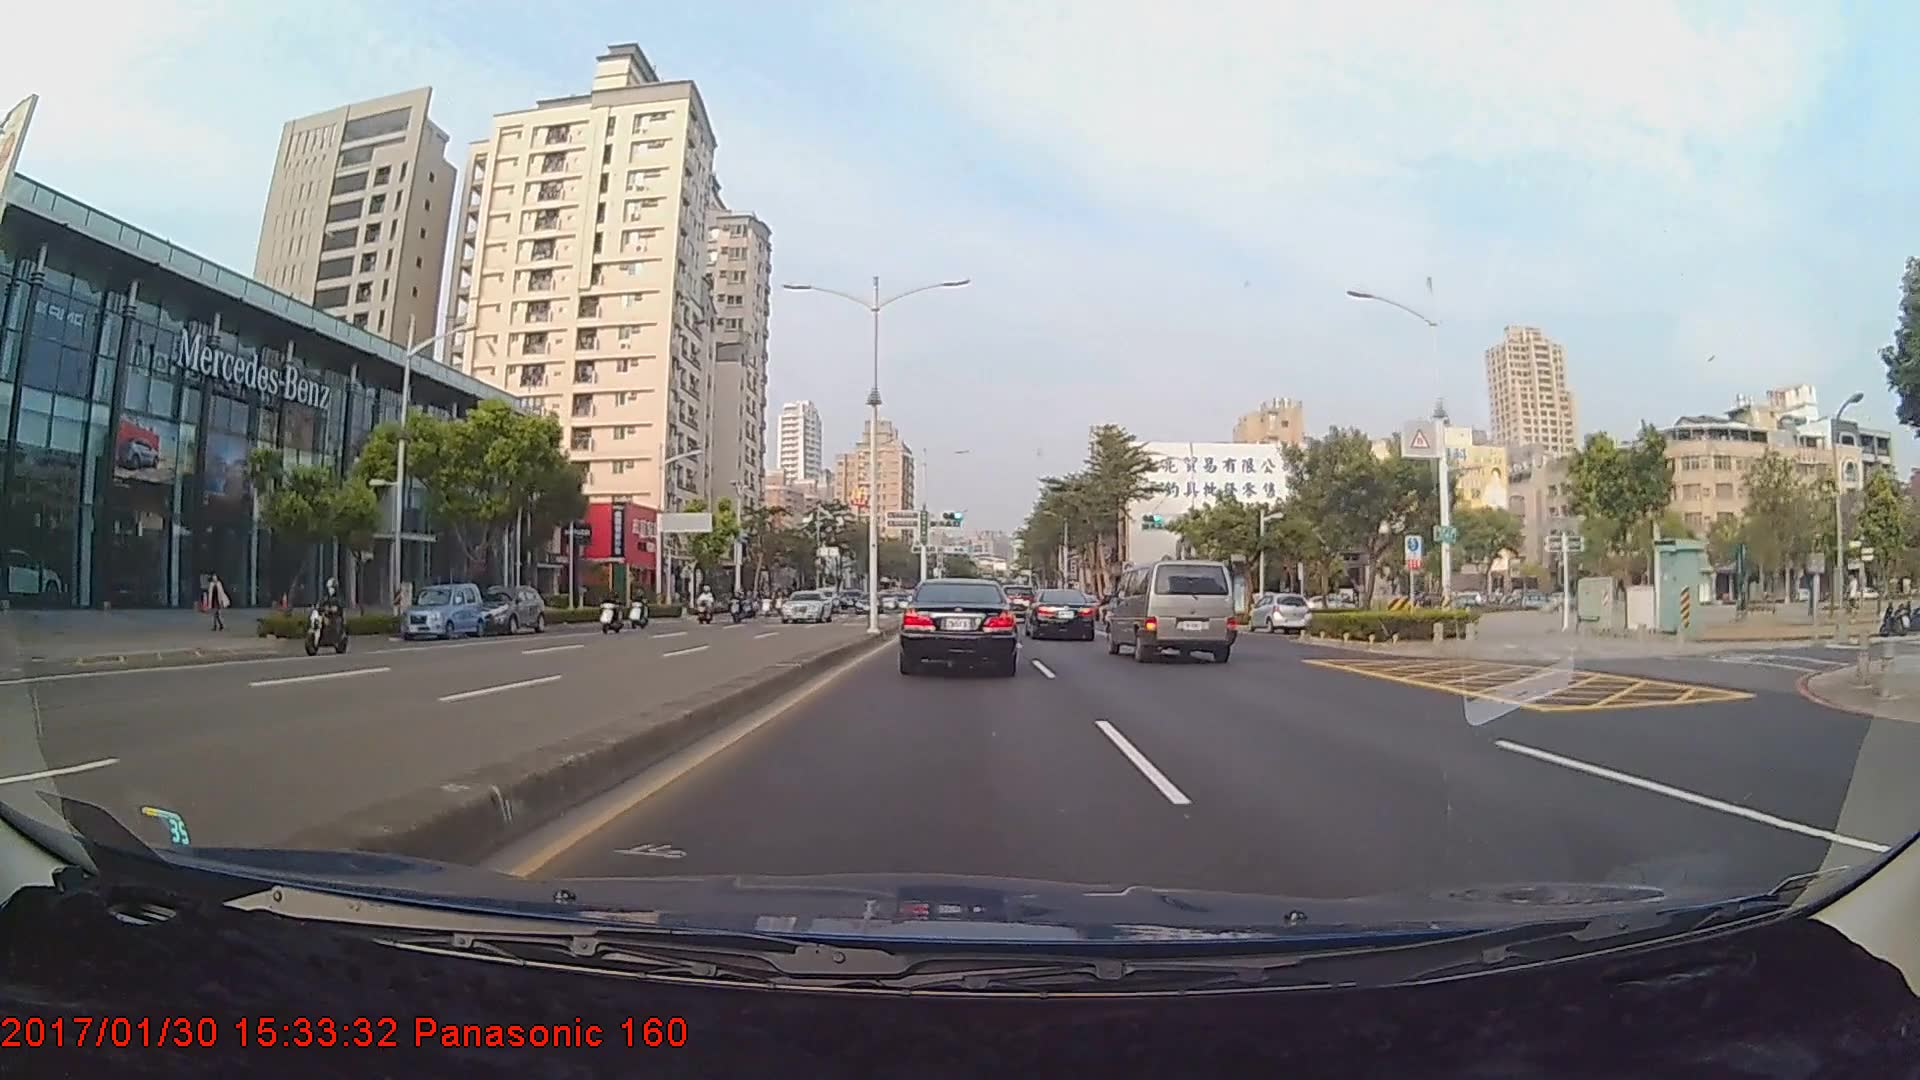pedestrian: (206, 572, 229, 632)
rider: (296, 576, 354, 661), (591, 586, 631, 638), (627, 584, 654, 633)
vehicle: (1107, 558, 1236, 664), (898, 577, 1019, 675), (400, 581, 483, 638), (467, 582, 549, 636), (1025, 588, 1097, 642), (1250, 592, 1309, 634), (779, 589, 831, 620)
